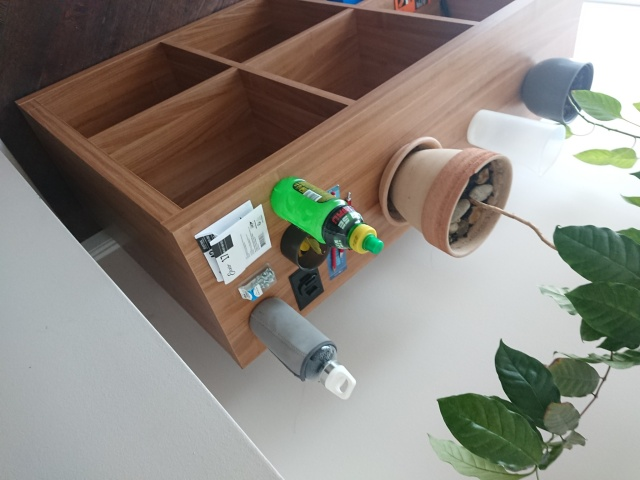Vindi Iso Sport Lemon-Grapefruit 500mL: (268, 174, 386, 256)
